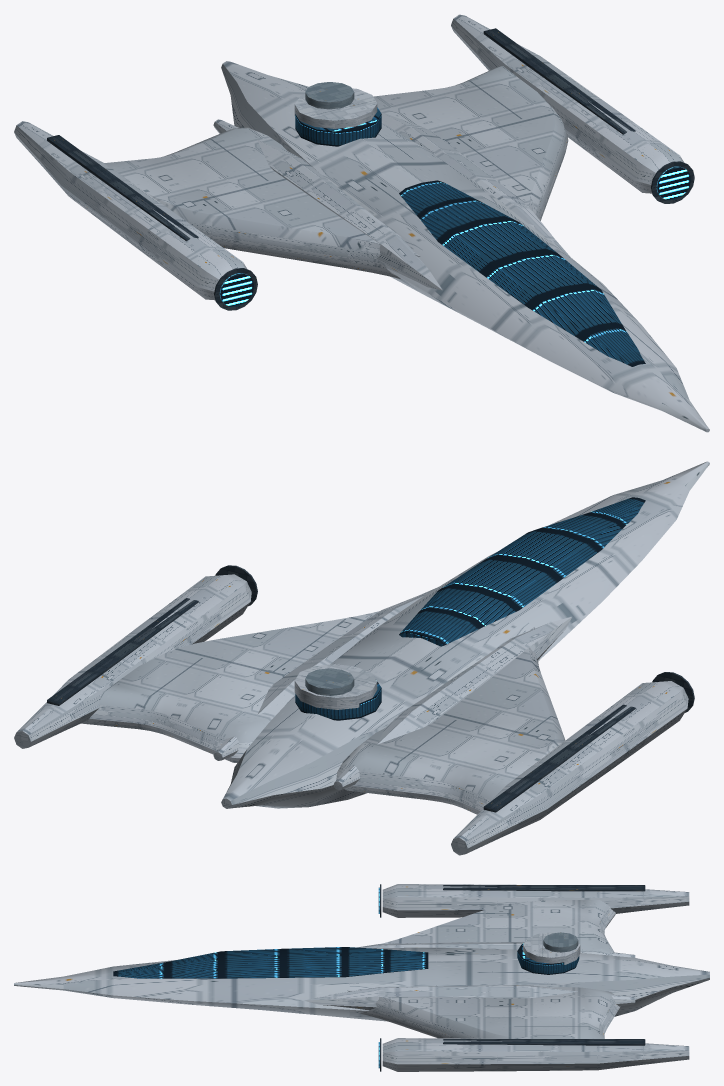
File: alliance_courier_dock_probe_far.glb
The picture shows the model from 3 angles, top to bottom: view 1: azimuth 30°, elevation 25°; view 2: azimuth 150°, elevation 25°; view 3: azimuth 270°, elevation 25°; orthographic projection. The views are drawn at different scales.
Visible parts, largest first — view 1: alliance_courier_far_source; view 2: alliance_courier_far_source; view 3: alliance_courier_far_source.
Boxes of the visible parts, x1=… form: alliance_courier_far_source: x1=14, y1=14, x2=709, y2=432; alliance_courier_far_source: x1=14, y1=461, x2=709, y2=855; alliance_courier_far_source: x1=14, y1=884, x2=709, y2=1071.
Bounding box in the file's own units: 1.11 × 0.2534 × 1.89.
Materials: 1 (1 with a texture image).
